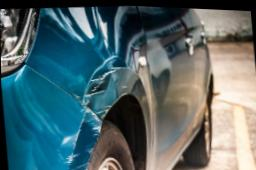Fender: (54, 46, 144, 170)
